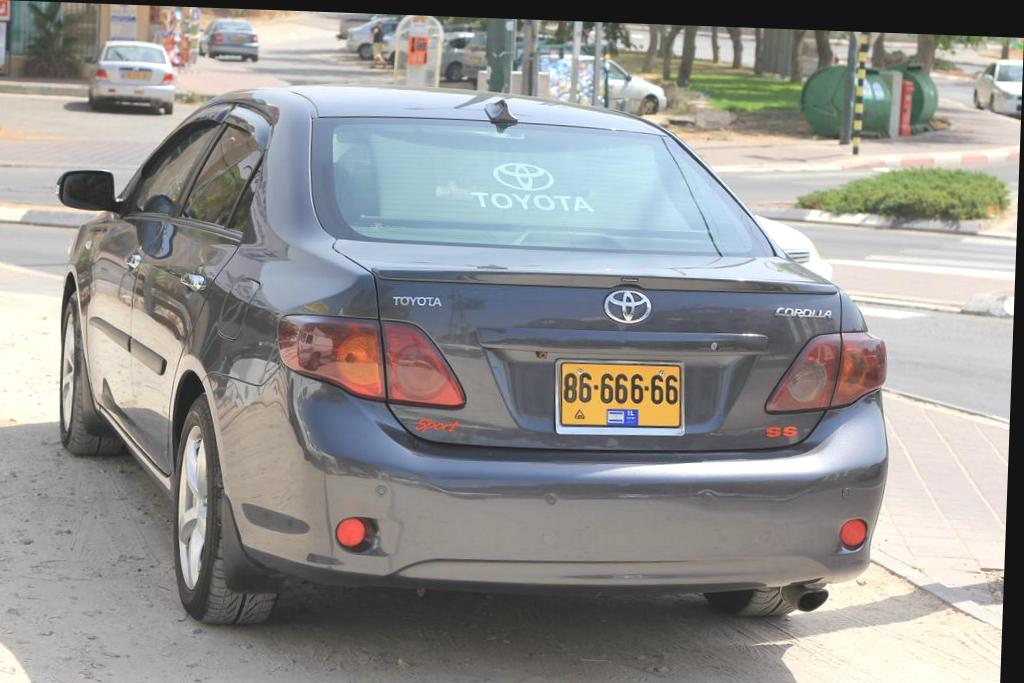License_Plate: (551, 358, 684, 435), (119, 69, 151, 81)
